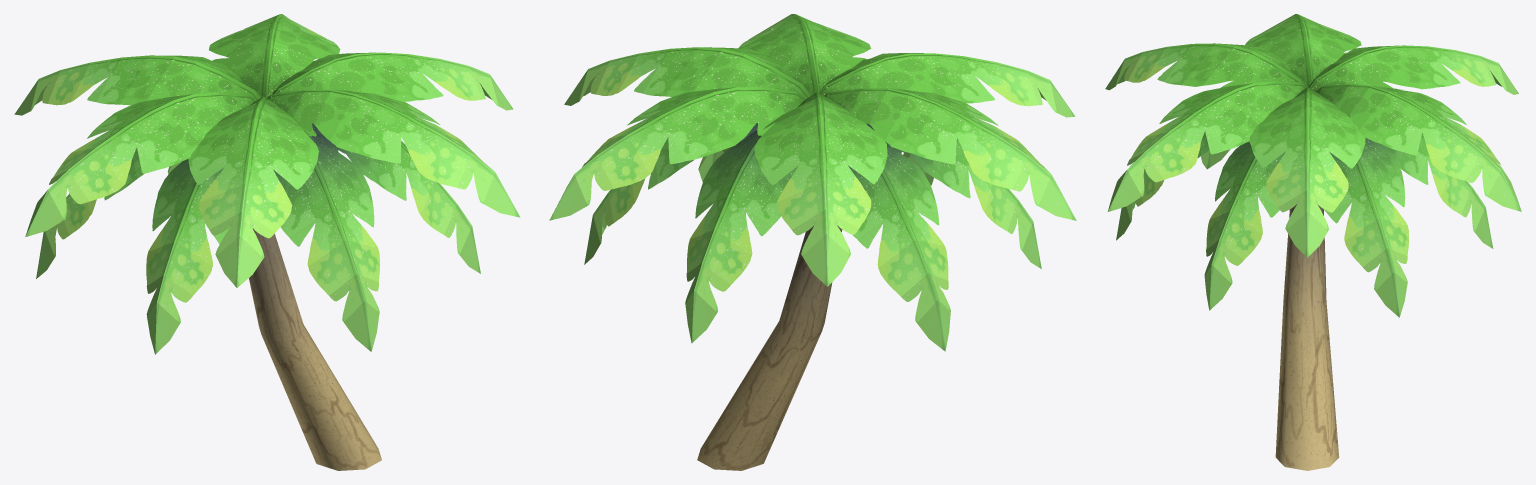
Rendered from tree9.fbx.
3 renders of one model, left to right at view 1: azimuth 30°, elevation 25°; view 2: azimuth 150°, elevation 25°; view 3: azimuth 270°, elevation 25°, orthographic. The views are drawn at different scales.
Visible parts, largest first — view 1: Plane, Cylinder.001; view 2: Plane, Cylinder.001; view 3: Plane, Cylinder.001.
Boxes of the visible parts, x1=… form: Plane: x1=14, y1=14, x2=520, y2=354; Cylinder.001: x1=249, y1=228, x2=381, y2=470; Plane: x1=549, y1=14, x2=1076, y2=351; Cylinder.001: x1=697, y1=225, x2=842, y2=470; Plane: x1=1105, y1=14, x2=1521, y2=317; Cylinder.001: x1=1275, y1=204, x2=1339, y2=470.
Size of the model in its own units: 1601 by 1231 by 1312.
